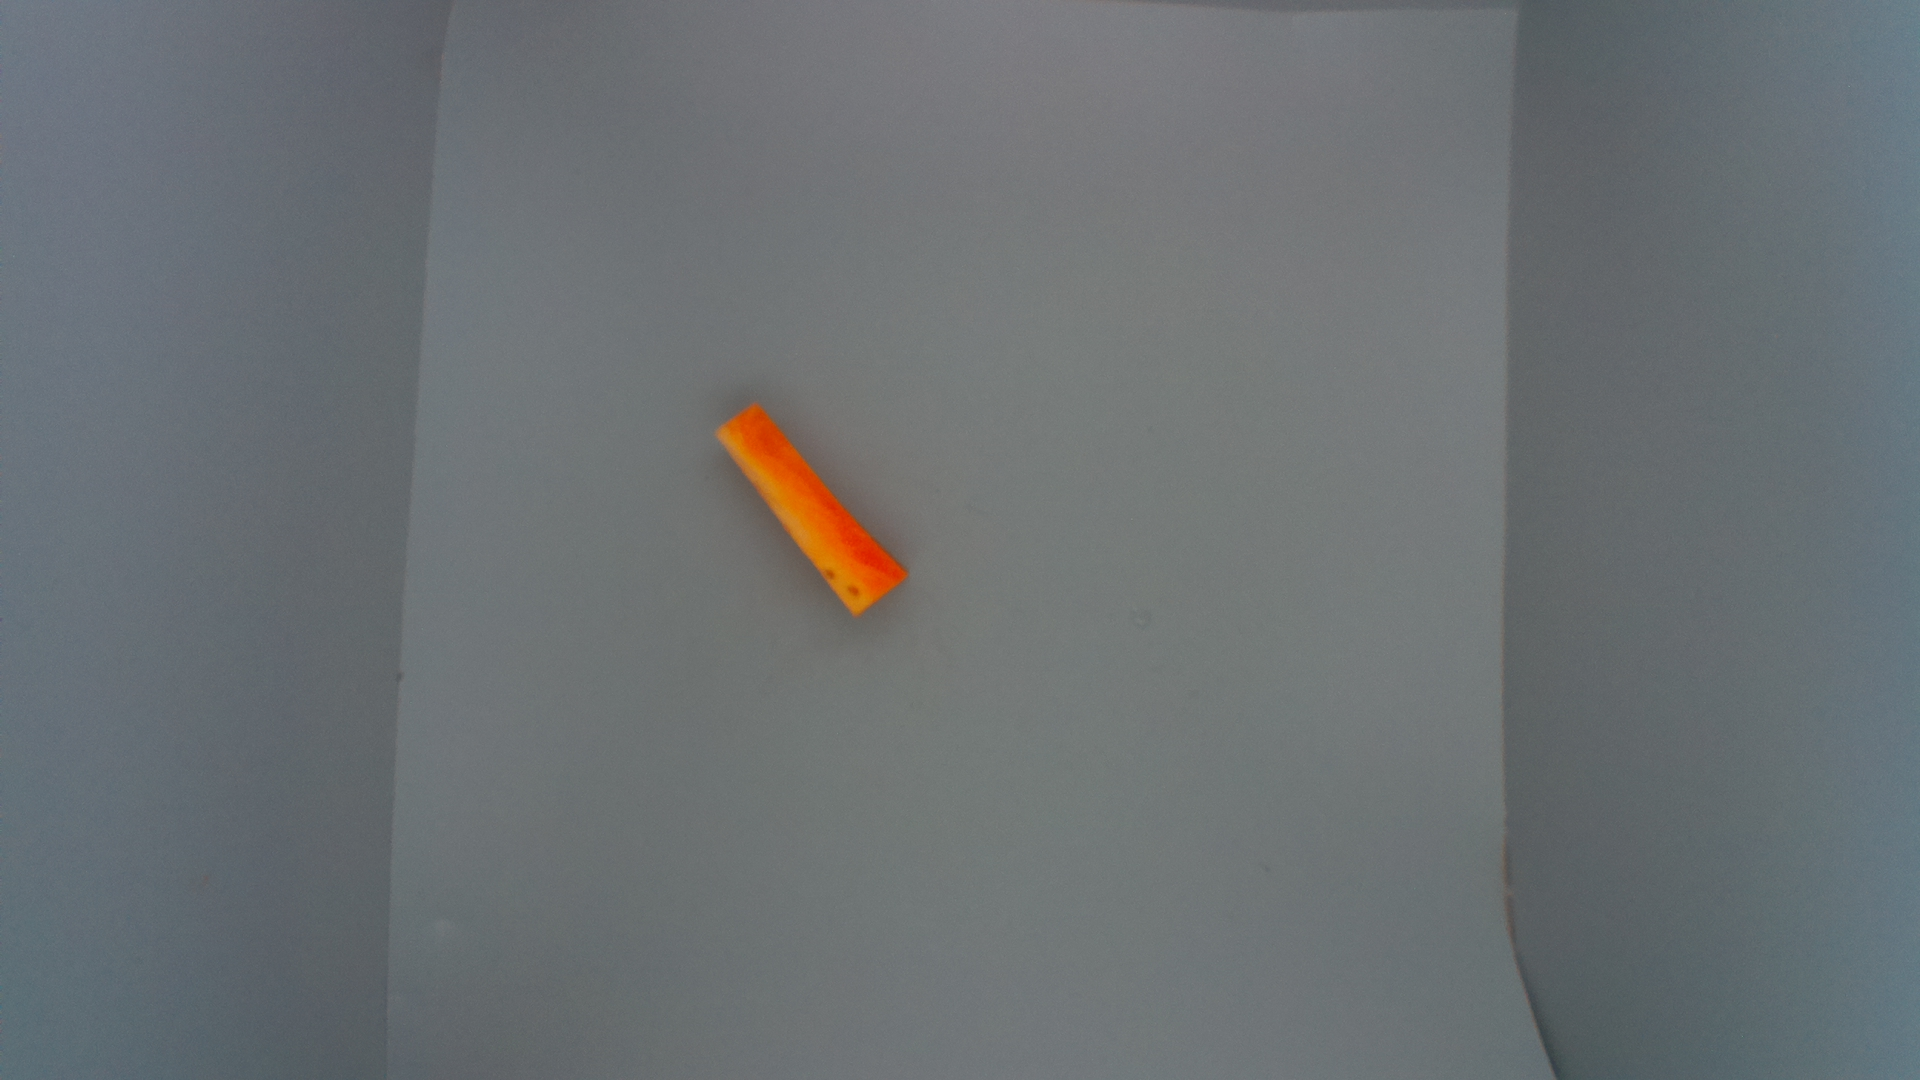carrot: (715, 400, 914, 622)
